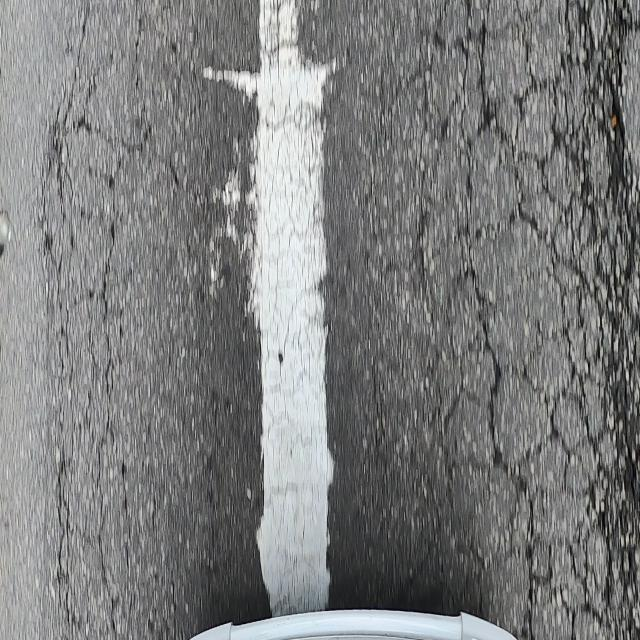Retak-Buaya: (373, 0, 640, 640), (40, 14, 154, 640)
